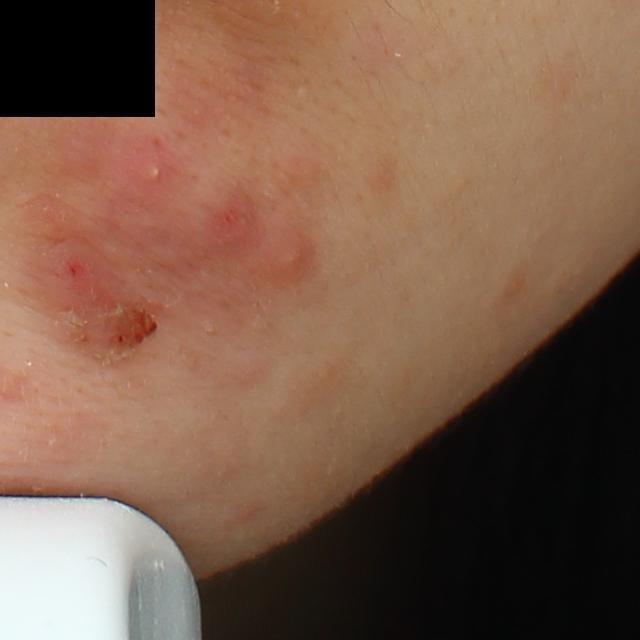papule: (36, 236, 122, 328), (203, 195, 265, 254), (263, 228, 315, 286), (24, 193, 77, 239)
